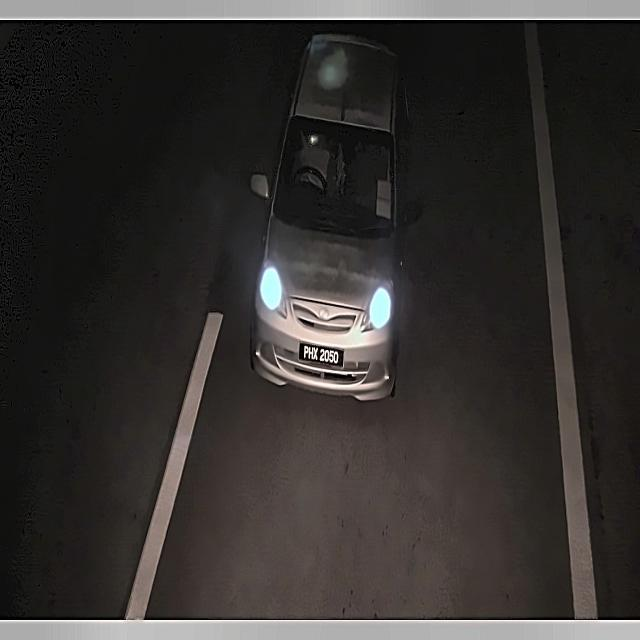car: (294, 336, 351, 376)
